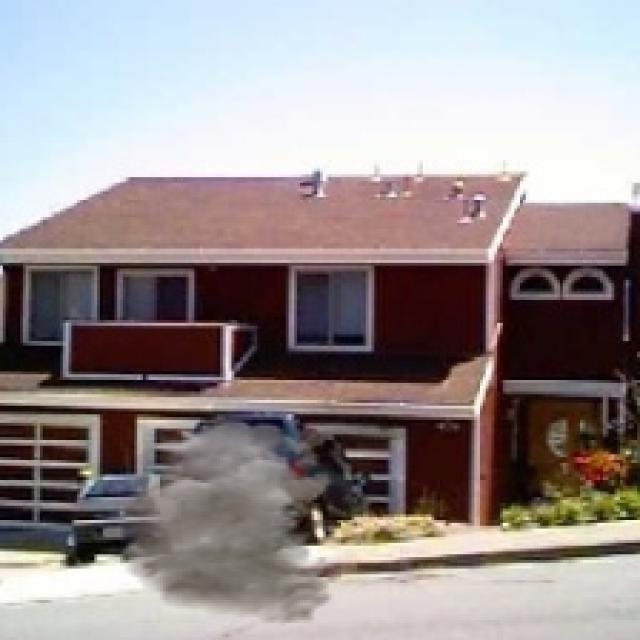Smoke: (91, 420, 340, 626)
